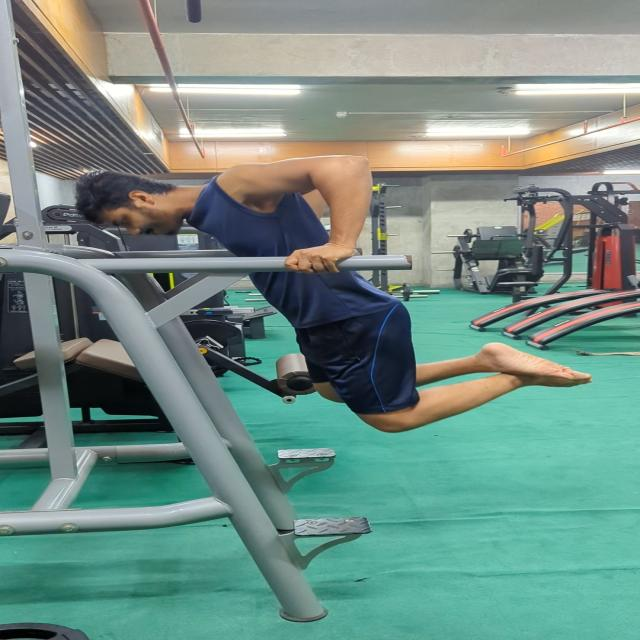Normal_Dips: (77, 152, 599, 433)
